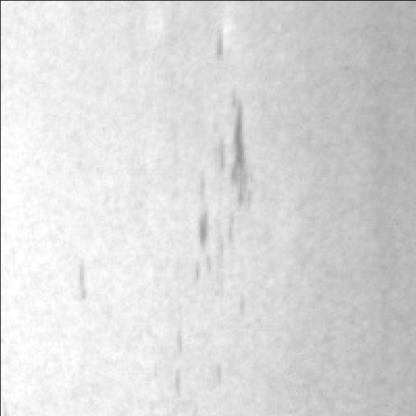inclusion: (181, 174, 239, 302), (208, 90, 256, 216)
